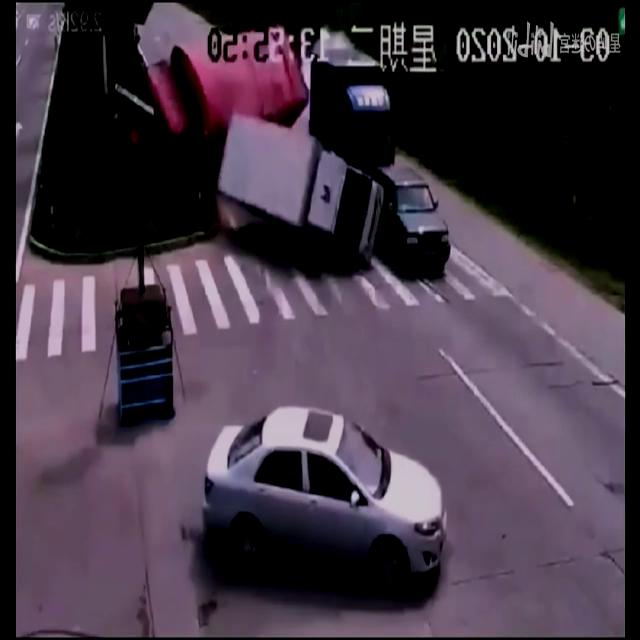accident: (106, 21, 454, 277)
